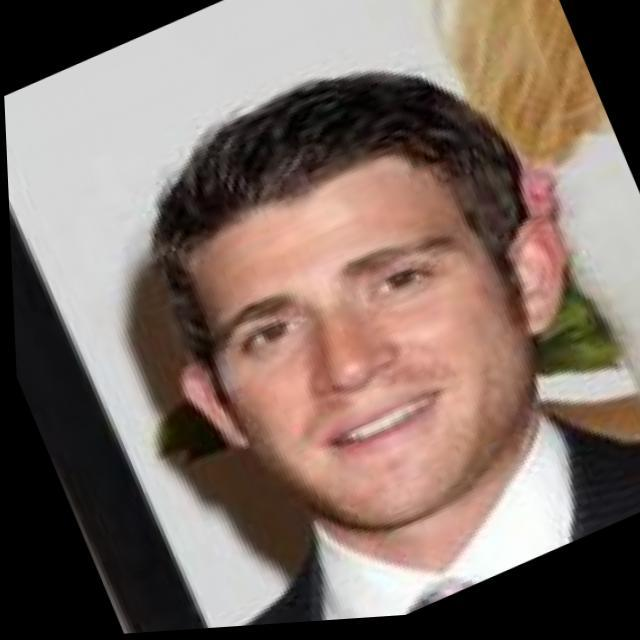Nonhelmet: (141, 67, 569, 531)
